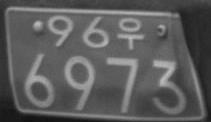3: (150, 59, 187, 115)
6: (23, 54, 55, 109), (81, 16, 109, 48)
7: (106, 56, 139, 113)
9: (63, 54, 95, 111), (47, 14, 74, 47)
우: (116, 16, 144, 50)
